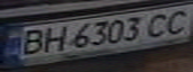0: (106, 16, 130, 45)
3: (124, 14, 148, 43), (90, 18, 112, 47)
6: (69, 20, 93, 51)
B: (12, 26, 48, 56)
C: (157, 7, 193, 35), (142, 10, 175, 38)
H: (36, 24, 69, 54)
